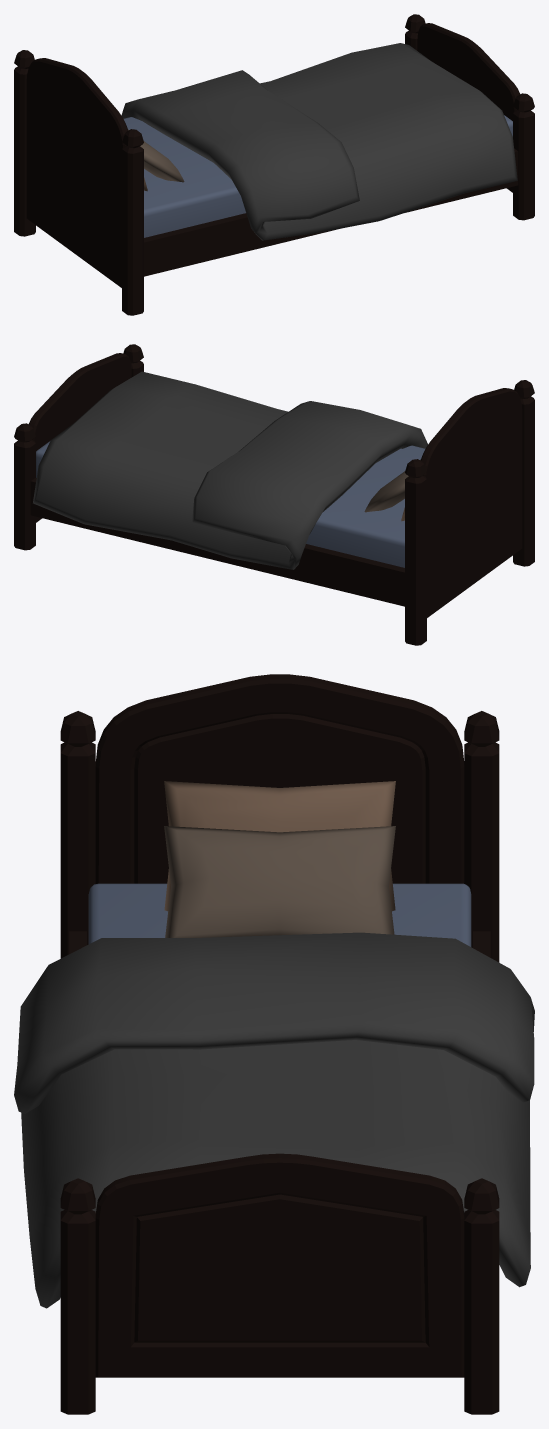
Rendered from h-004_bed_01_F.FBX.
The picture shows the model from 3 angles, top to bottom: view 1: azimuth 30°, elevation 25°; view 2: azimuth 150°, elevation 25°; view 3: azimuth 270°, elevation 25°; orthographic projection. The views are drawn at different scales.
Visible parts, largest first — view 1: h-004_bed_01; view 2: h-004_bed_01; view 3: h-004_bed_01.
Part boxes in pixels (box(x1,y1,x2,y2)): h-004_bed_01: box(14, 14, 534, 315); h-004_bed_01: box(14, 344, 534, 645); h-004_bed_01: box(14, 674, 534, 1414).
Size of the model in its own units: 30 by 14.12 by 17.81.
